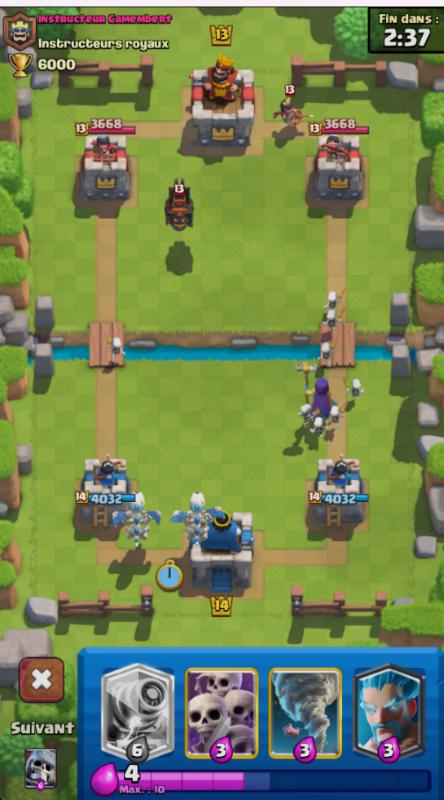squelette: (109, 334, 129, 362), (297, 403, 313, 425), (323, 291, 342, 309), (328, 404, 344, 425), (327, 308, 343, 329), (308, 417, 323, 434), (350, 377, 362, 398)
